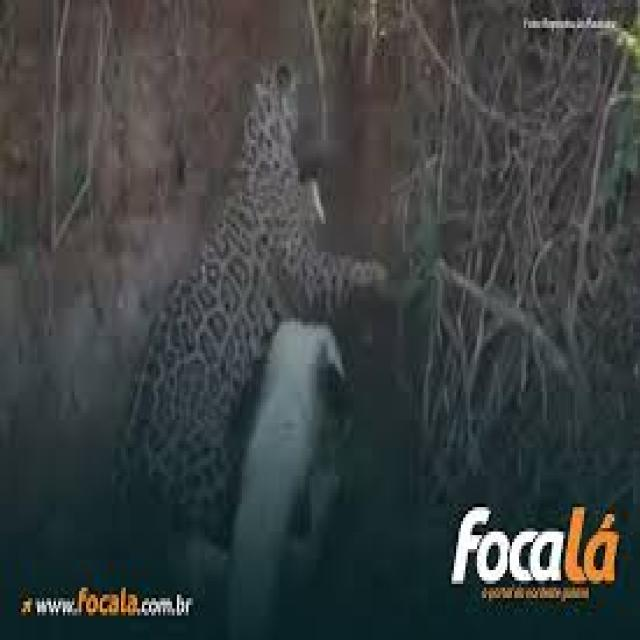Jaguar: (128, 66, 368, 532)
